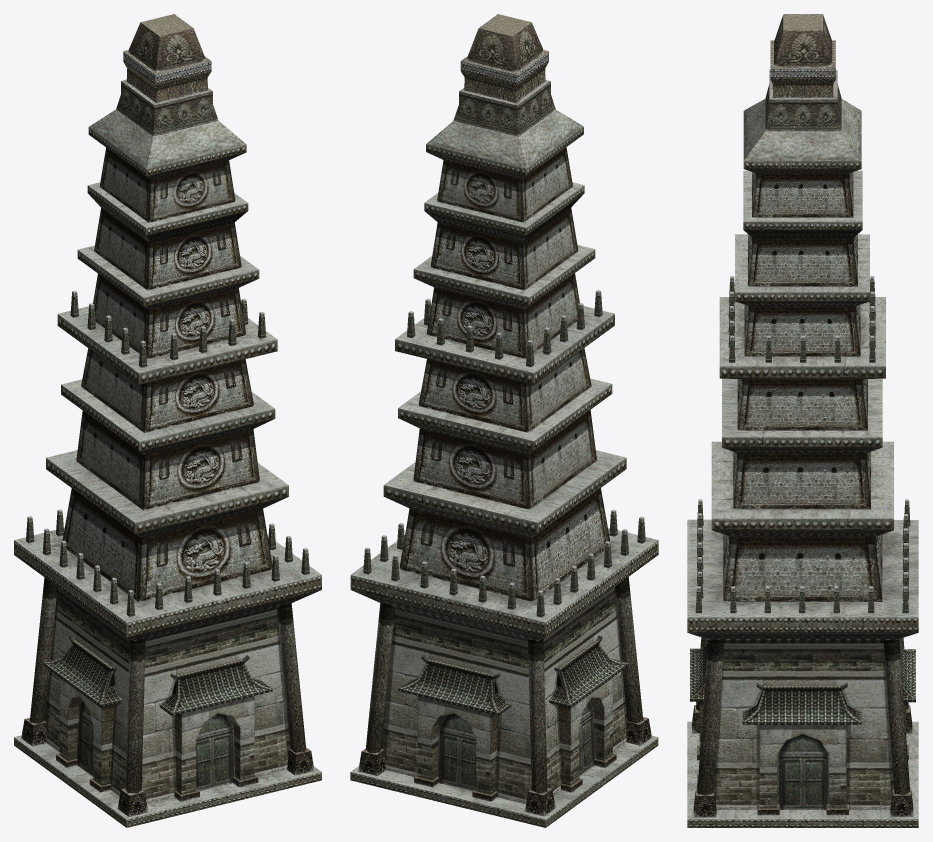
File: b1-031-tower.fbx
3 views of the same model, side by side, from view 1: azimuth 30°, elevation 25°; view 2: azimuth 150°, elevation 25°; view 3: azimuth 270°, elevation 25° (orthographic). The views are drawn at different scales.
Parts seen in each view (by area): view 1: B1-031; view 2: B1-031; view 3: B1-031.
Boxes of the visible parts, x1=… form: B1-031: x1=14, y1=14, x2=321, y2=827; B1-031: x1=350, y1=14, x2=658, y2=827; B1-031: x1=687, y1=14, x2=918, y2=827.
Bounding box in the file's own units: 9.27 × 33.49 × 9.27.
